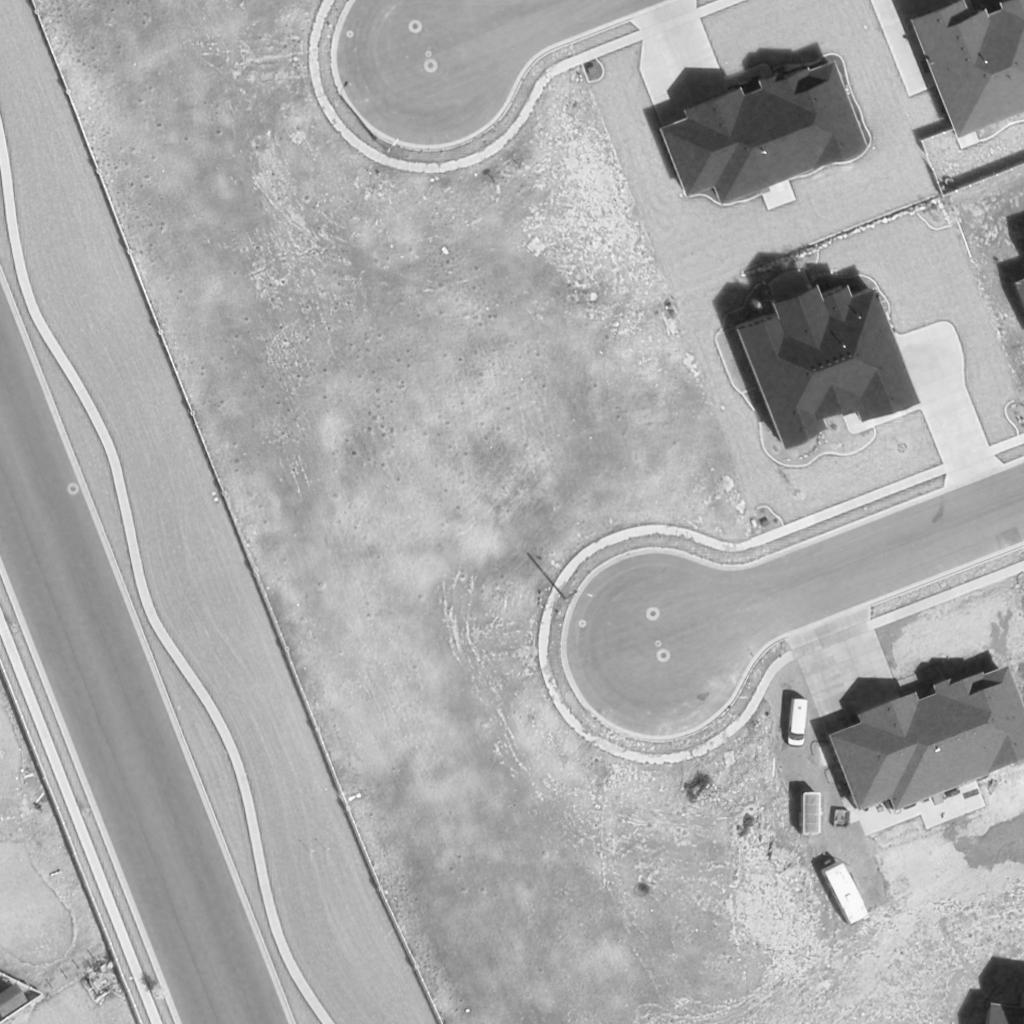vehicle: (816, 857, 872, 927), (787, 698, 807, 748), (802, 792, 822, 838)
